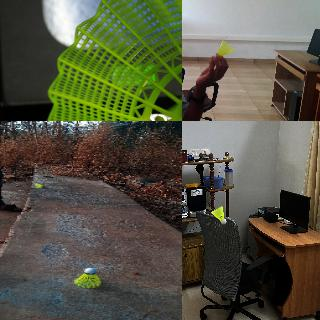shuttlecock: (47, 0, 181, 120), (75, 268, 102, 288), (210, 206, 226, 224), (217, 40, 233, 56), (33, 183, 46, 187)
